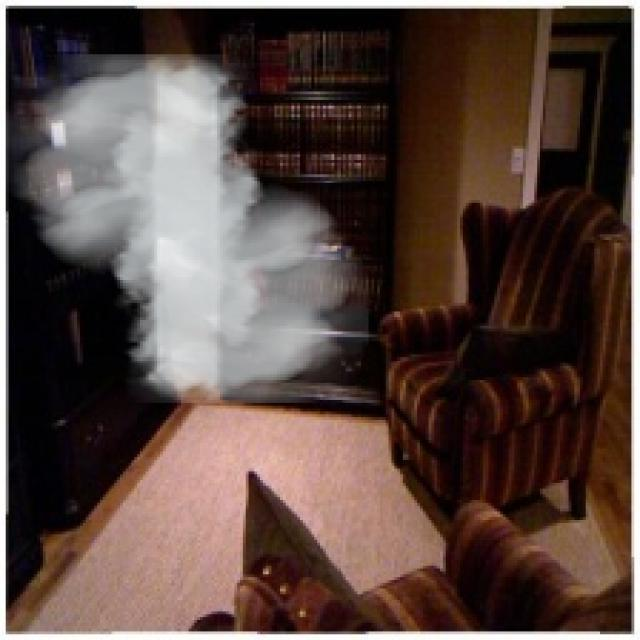Smoke: (6, 54, 368, 403)
